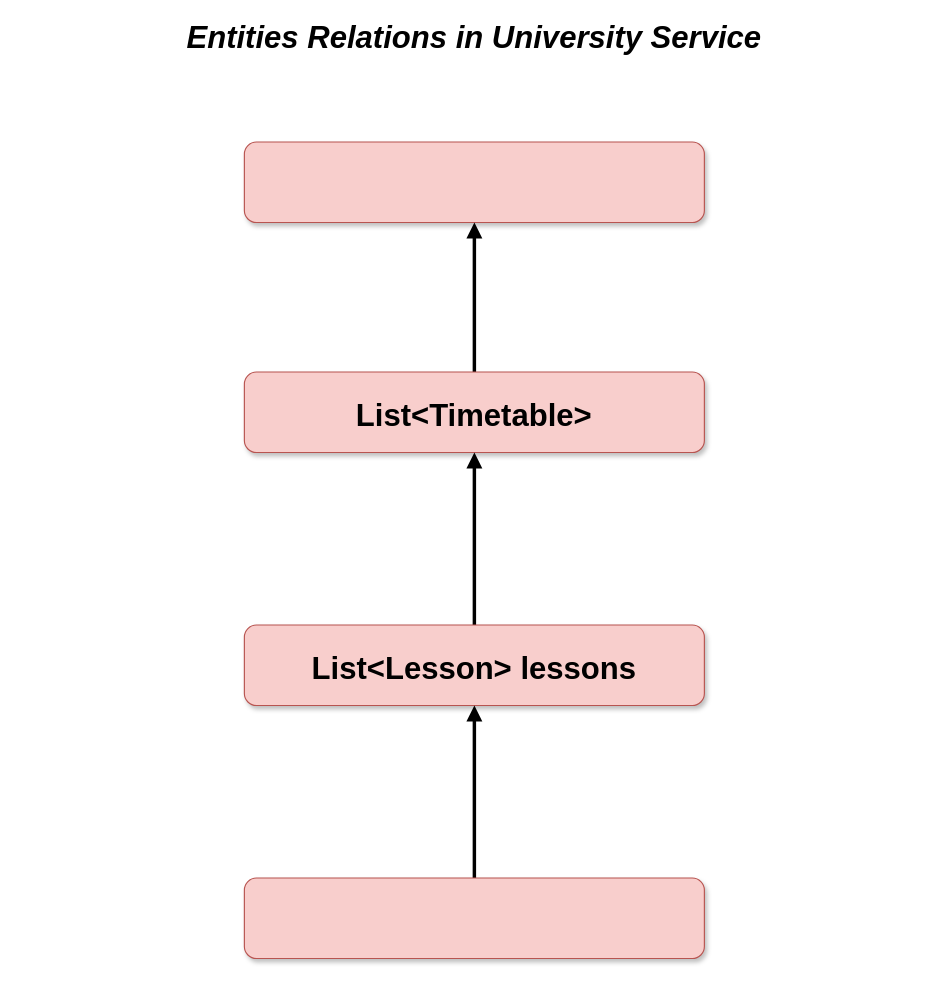
Some shapes in this 948 by 987 pixel diagram are drawn without their labels. Each missing label, with the centre of its shape:
"Classroom" goes at pixel 475 919.
"Student" goes at pixel 475 183.
